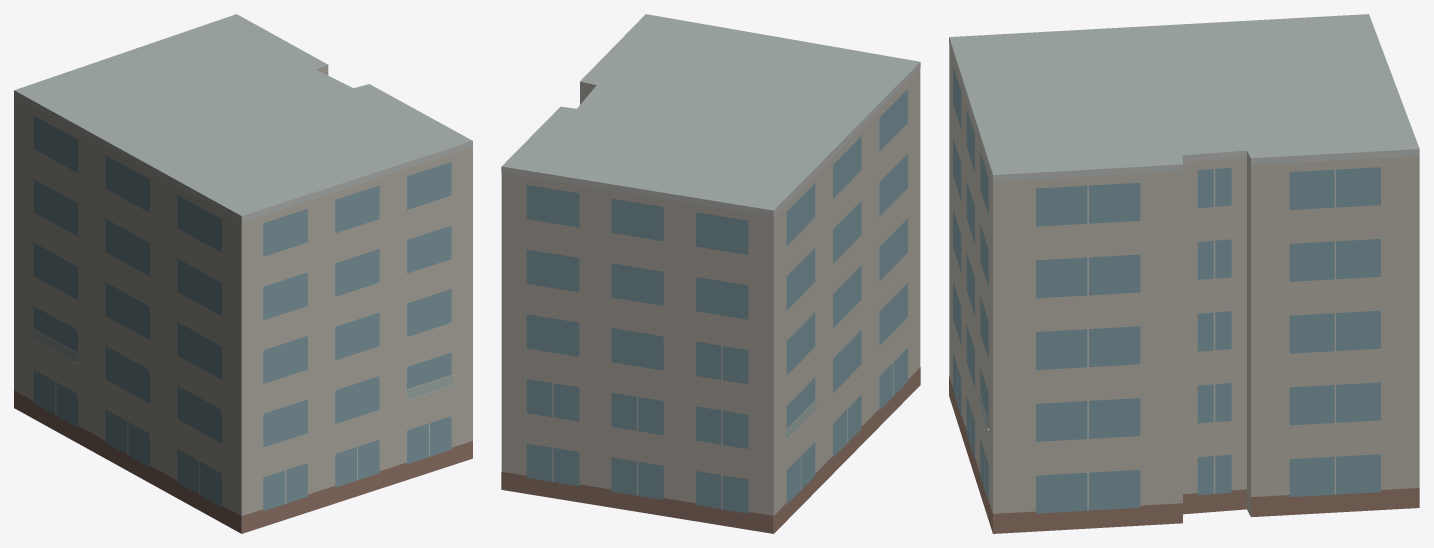
Rendered from survey-upis-32708410.glb.
3 renders of one model, left to right at view 1: azimuth 30°, elevation 25°; view 2: azimuth 150°, elevation 25°; view 3: azimuth 270°, elevation 25°, orthographic. The views are drawn at different scales.
Parts seen in each view (by area): view 1: survey-upis-32708410.tmp; view 2: survey-upis-32708410.tmp; view 3: survey-upis-32708410.tmp.
Part boxes in pixels (x1,y1,x2,y2): survey-upis-32708410.tmp: (14,14,472,533); survey-upis-32708410.tmp: (501,14,920,533); survey-upis-32708410.tmp: (949,14,1419,533).
Size of the model in its own units: 12.09 by 12.55 by 14.93.
